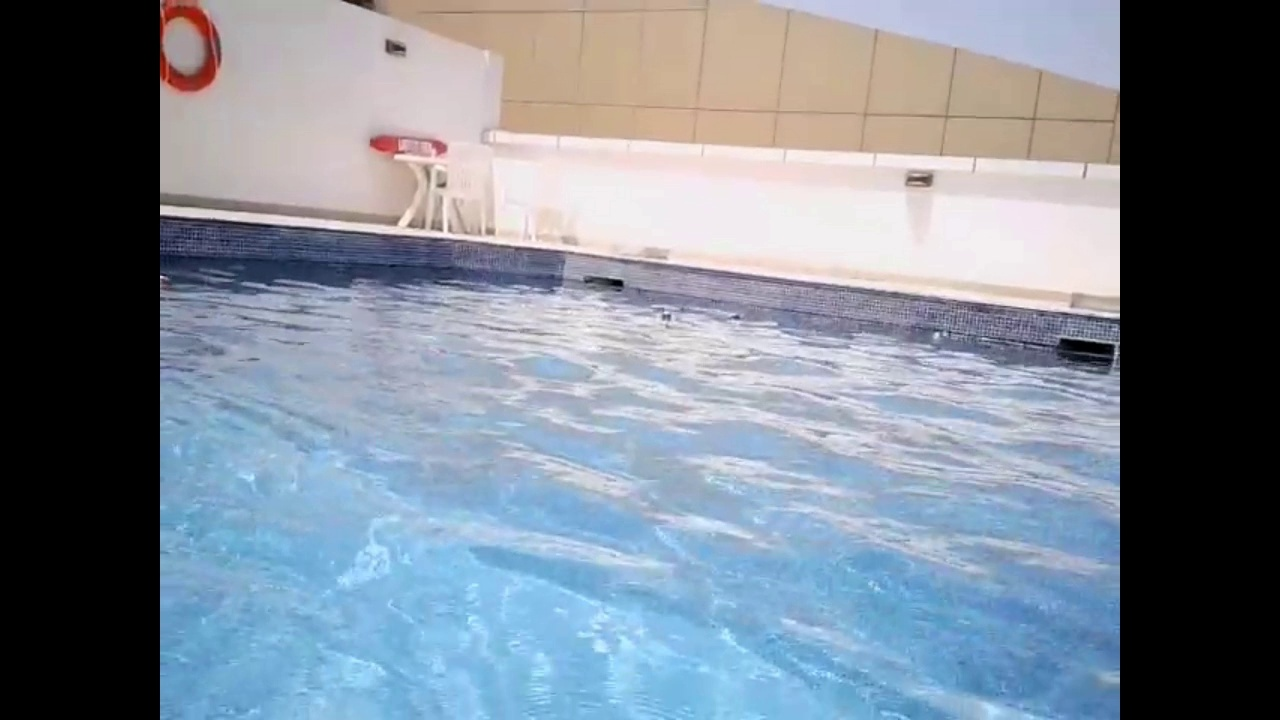debris: (656, 307, 672, 327), (721, 311, 741, 323)
